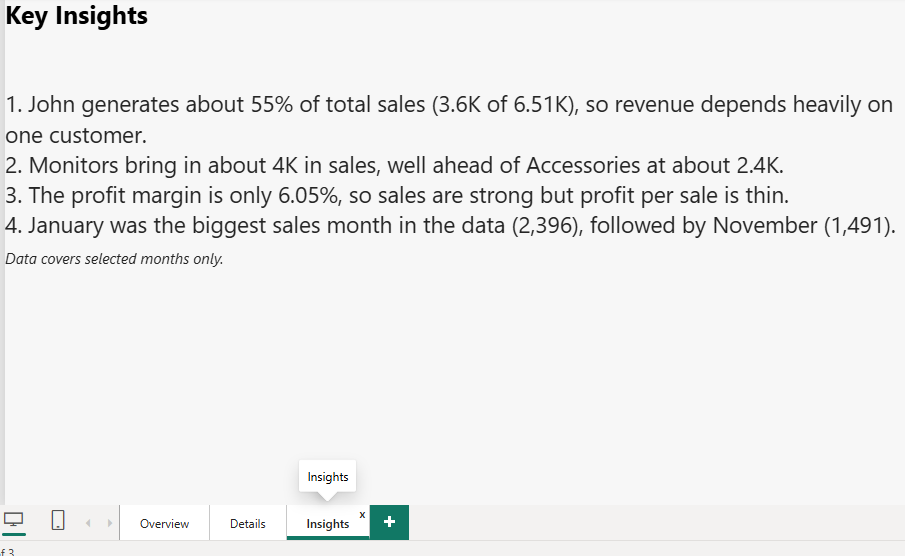

Layout of this report page (visuals, bound fields, positions):
{"tool":"powerbi","page":{"name":"Insights","canvas":[1920,1080],"ordinal":2},"visuals":[{"type":"textbox","box":[0,0,529.4,108.4],"z":0},{"type":"textbox","box":[0,193.5,1919.8,435.8],"z":1000}]}

Visuals, with their boxes on the page's 1920x1080 design canvas (x1, y1, x2, y2). These are canvas units, not pixel positions in the 905x556 screenshot, which may show the page scaled, cropped or inside an application window:
textbox: rect(0, 0, 529, 108)
textbox: rect(0, 194, 1920, 629)
